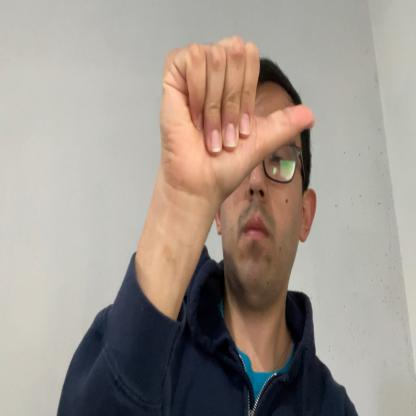A: (160, 34, 315, 203)
